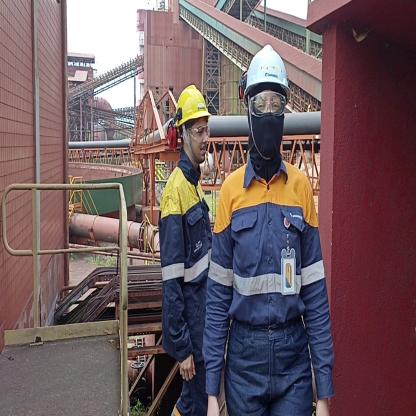Balaclava: (248, 88, 283, 174)
C_eletrica: (157, 174, 217, 362)
Capacete: (244, 42, 291, 92), (170, 80, 212, 121)
Operacional: (213, 163, 332, 394)
